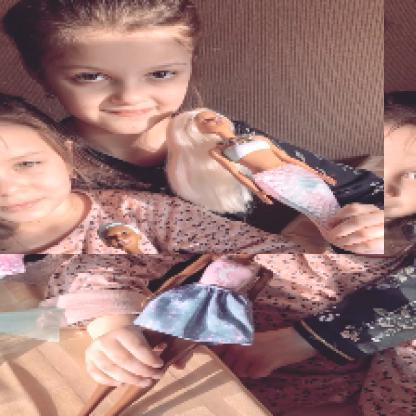child: (44, 88, 416, 391), (1, 1, 386, 256)
